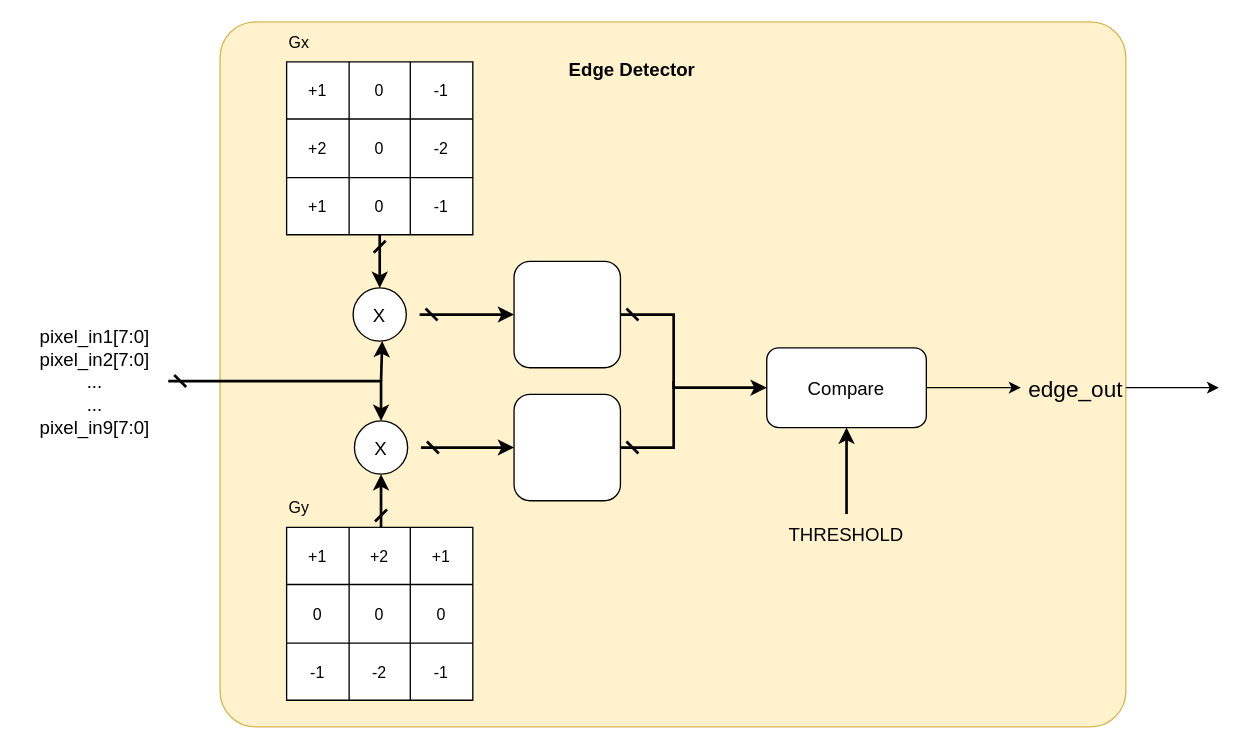
This 1240x749 diagram has some shape labels left out. Each missing label, with the centre of its shape:
"Horizontal sobel out" belongs at [566,447].
"Vertical sobel out" belongs at [566,314].
